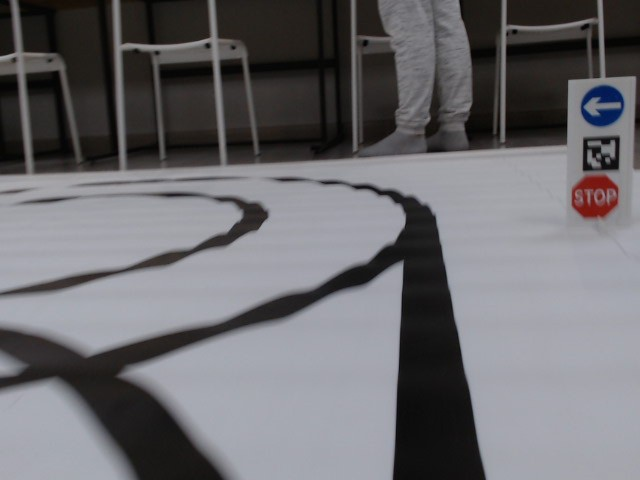Stop: (568, 175, 615, 220)
